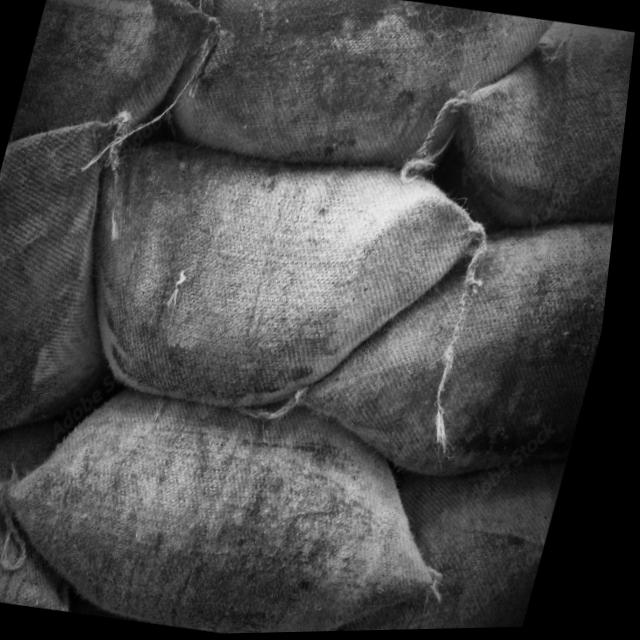sack: (45, 120, 504, 452), (0, 363, 492, 639), (285, 184, 623, 501), (162, 0, 557, 200), (0, 96, 173, 463), (428, 13, 638, 241), (341, 446, 577, 633), (13, 0, 227, 161), (0, 400, 129, 614)
